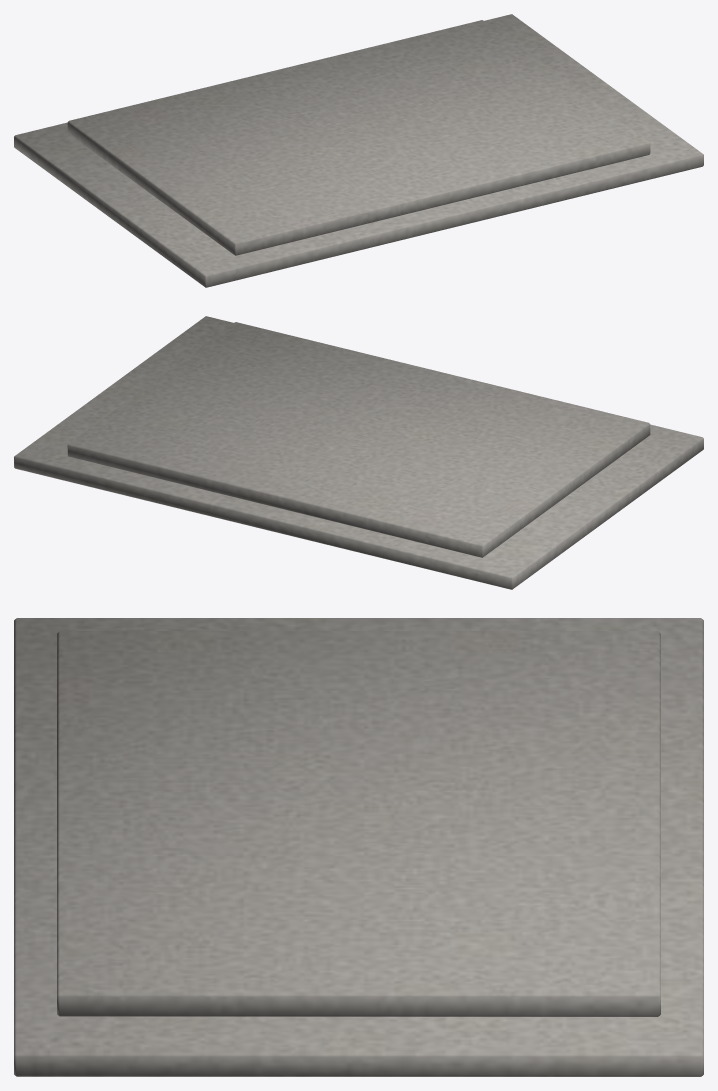
File: raised-dais.glb
3 renders of one model, top to bottom at view 1: azimuth 30°, elevation 25°; view 2: azimuth 150°, elevation 25°; view 3: azimuth 270°, elevation 25°, orthographic. The views are drawn at different scales.
Parts seen in each view (by area): view 1: raised_dais; view 2: raised_dais; view 3: raised_dais.
Boxes of the visible parts, left/top/right/bottom form: raised_dais: left=14, top=14, right=703, bottom=287; raised_dais: left=14, top=316, right=703, bottom=589; raised_dais: left=14, top=618, right=703, bottom=1076.
Bounding box in the file's own units: 6 × 0.3 × 4.
Materials: 1 (1 with a texture image).
